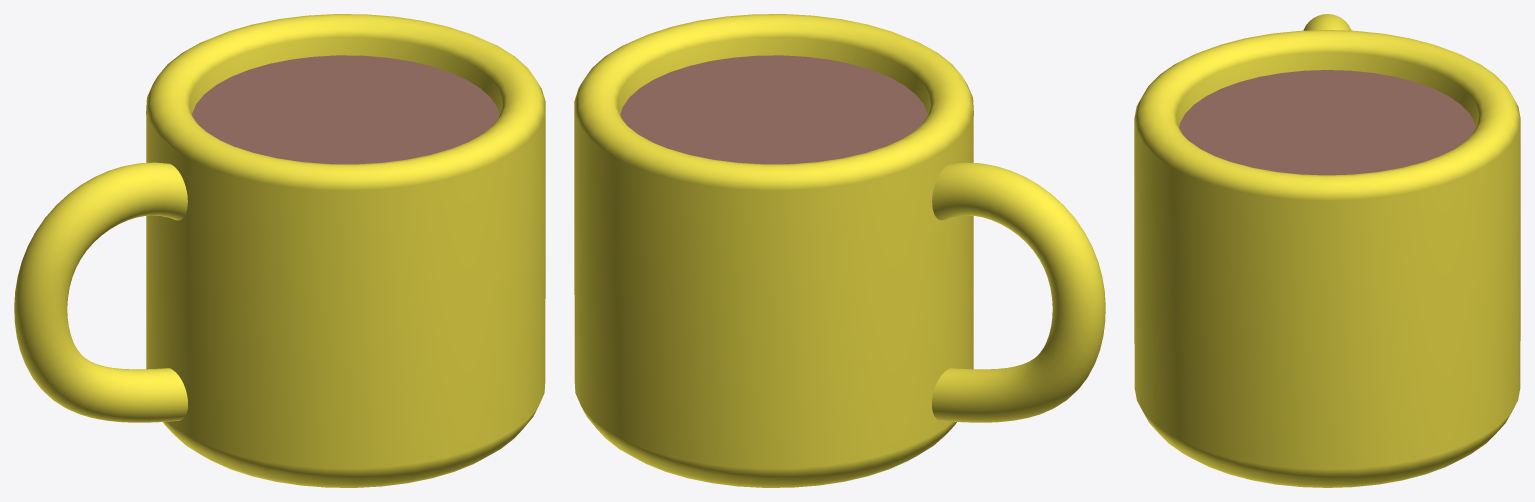
Rendered from Store_18_Big_Cup_1.glb.
3 views of the same model, side by side, from view 1: azimuth 30°, elevation 25°; view 2: azimuth 150°, elevation 25°; view 3: azimuth 270°, elevation 25° (orthographic). The views are drawn at different scales.
Parts seen in each view (by area): view 1: Store_18_Big_Cup_1; view 2: Store_18_Big_Cup_1; view 3: Store_18_Big_Cup_1.
Part boxes in pixels (x1,y1,x2,y2): Store_18_Big_Cup_1: (14,14,545,487); Store_18_Big_Cup_1: (574,14,1105,487); Store_18_Big_Cup_1: (1134,14,1520,487).
Bounding box in the file's own units: 1.36 × 0.8517 × 0.9382.
Materials: 1 (1 with a texture image).
